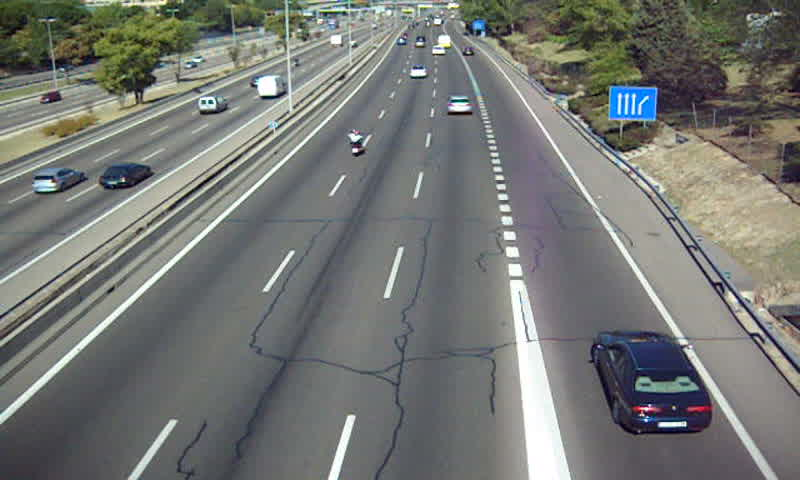car: (591, 332, 713, 435), (446, 94, 474, 114), (408, 64, 427, 78)
motorcycle: (347, 130, 365, 158)
